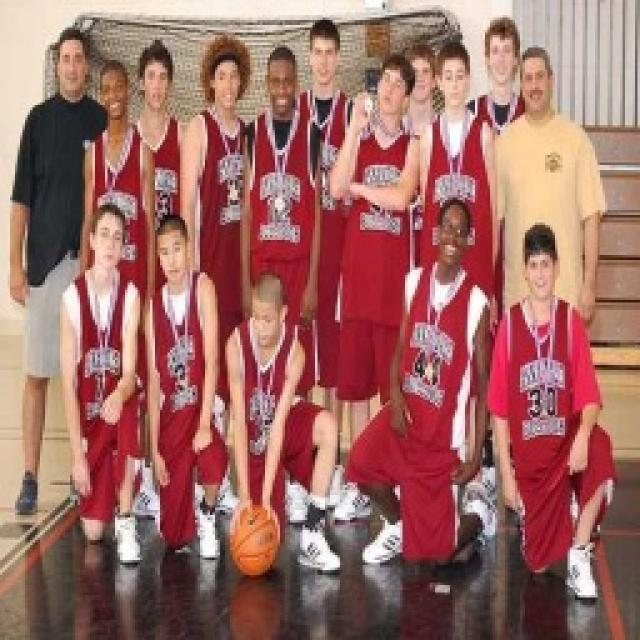rim: (222, 504, 286, 576)
